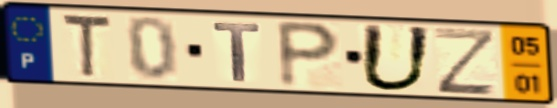0: (124, 15, 180, 83)
P: (274, 18, 344, 91)
T: (59, 11, 115, 82), (210, 21, 263, 84)
U: (357, 21, 435, 94)
Z: (431, 26, 499, 98)
